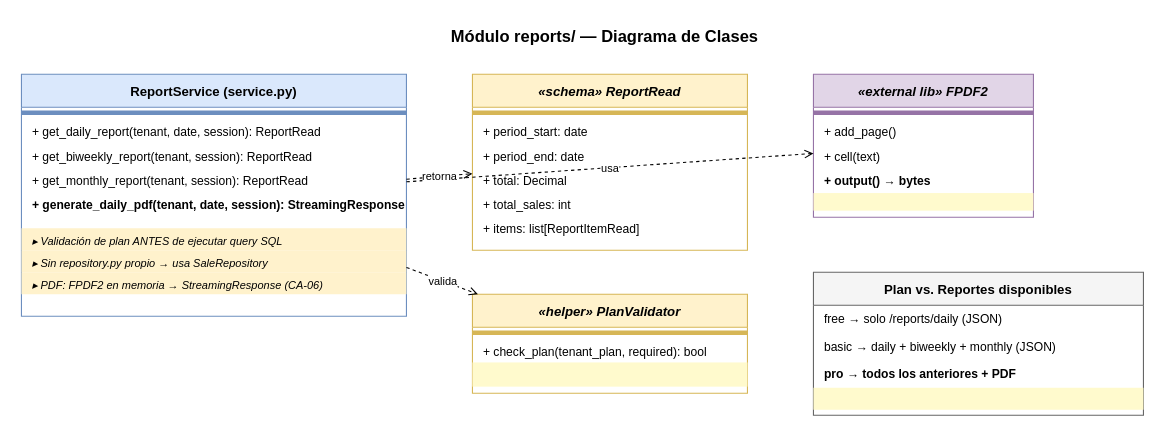
Some shapes in this 1163 by 435 pixel diagram are drawn without their labels. The centre of each missing label's shape, as x and y in pixels:
"0 escrituras en disco (ADR-05)" belongs at [923,201].
"HTTP 403 si plan no permite el reporte" belongs at [609,374].
"Nombre en PDF = tenant.name (no env var)" belongs at [978,398].
